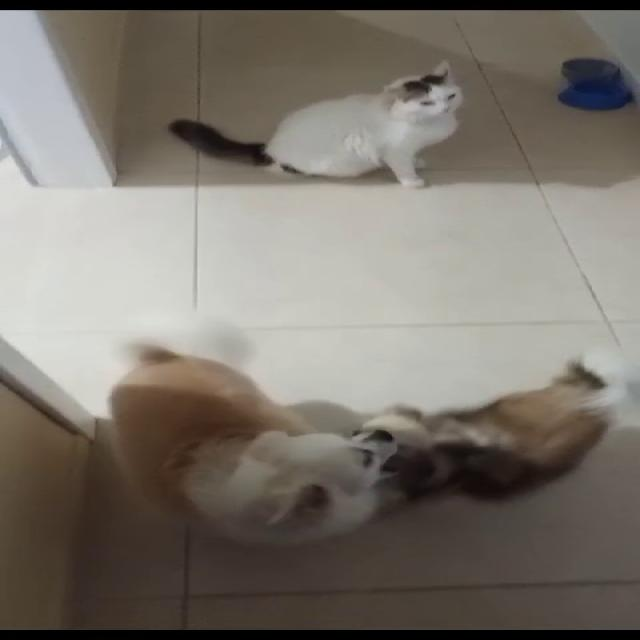Pedrita: (348, 318, 638, 513)
Simba: (139, 40, 586, 222)
Theo: (105, 313, 433, 546), (348, 318, 638, 513)
